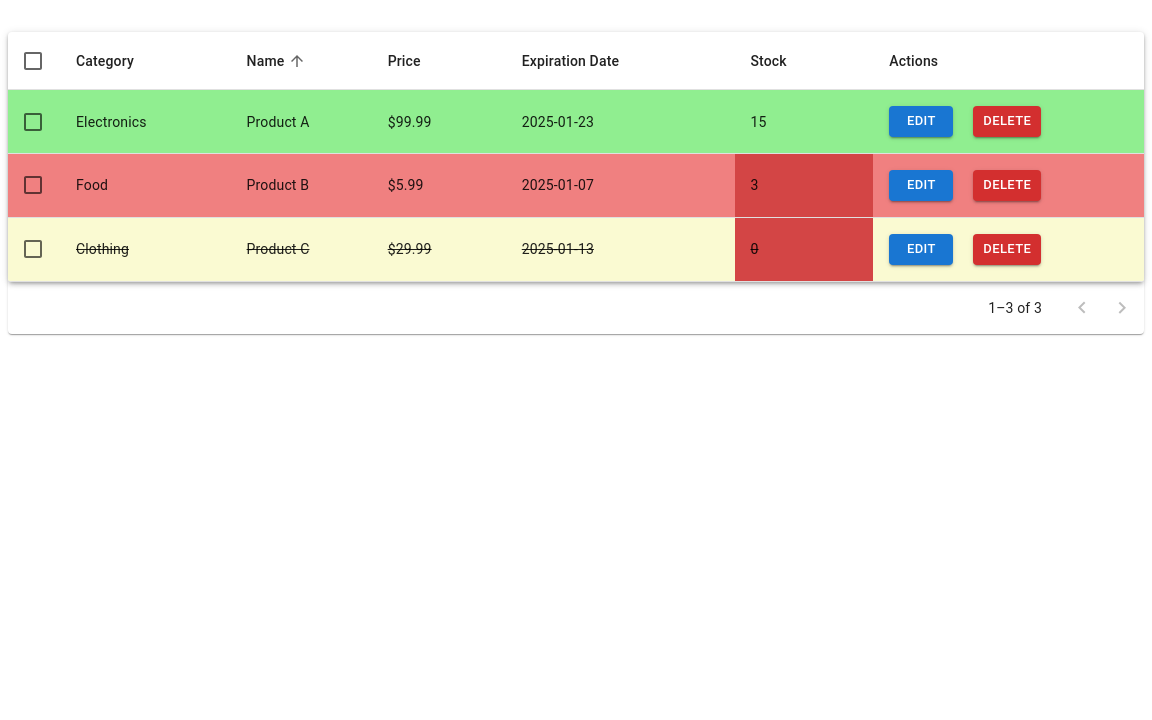
Test: ProductTable › shows delete confirmation dialog
Click the button "Delete" in the row of "Electronics". click: click(1007, 122)
box: top-left (973, 106), bottom-right (1041, 137)
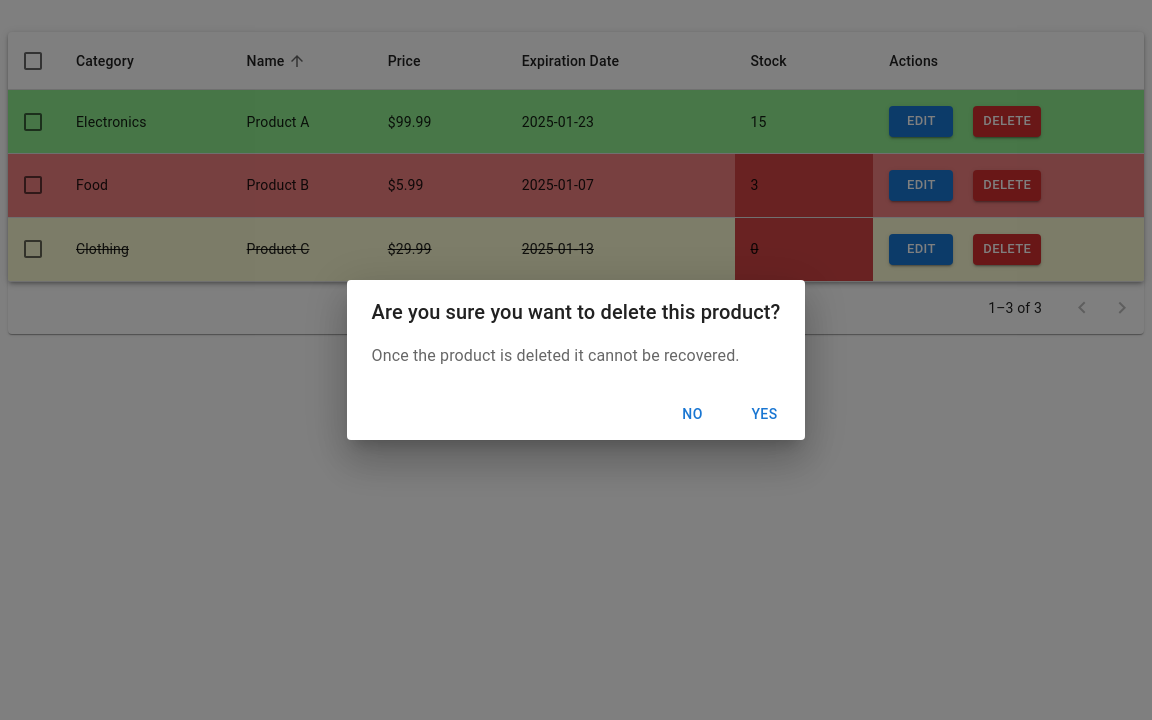
Check: the heading "Are you sure you want to delete this product?" is shown, box top-left (372, 300), bottom-right (780, 324)
